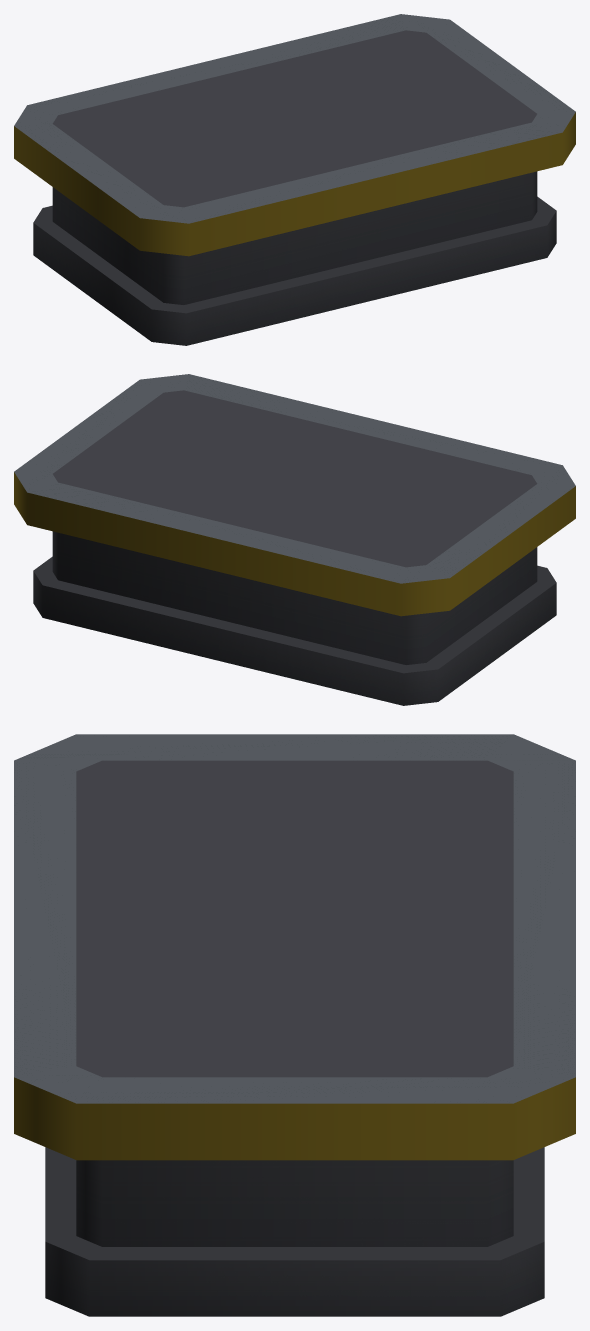
Rendered from s_table_large.glb.
The picture shows the model from 3 angles, top to bottom: view 1: azimuth 30°, elevation 25°; view 2: azimuth 150°, elevation 25°; view 3: azimuth 270°, elevation 25°; orthographic projection. The views are drawn at different scales.
Parts seen in each view (by area): view 1: table-large; view 2: table-large; view 3: table-large.
Boxes of the visible parts, x1,y1,x2,y2 form: table-large: (14, 14, 575, 345); table-large: (14, 374, 575, 705); table-large: (14, 734, 575, 1316).
Bounding box in the file's own units: 1.4 × 0.4 × 0.9.
1 material, 1 textured.
